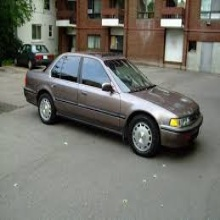no damage: (23, 50, 204, 159)
